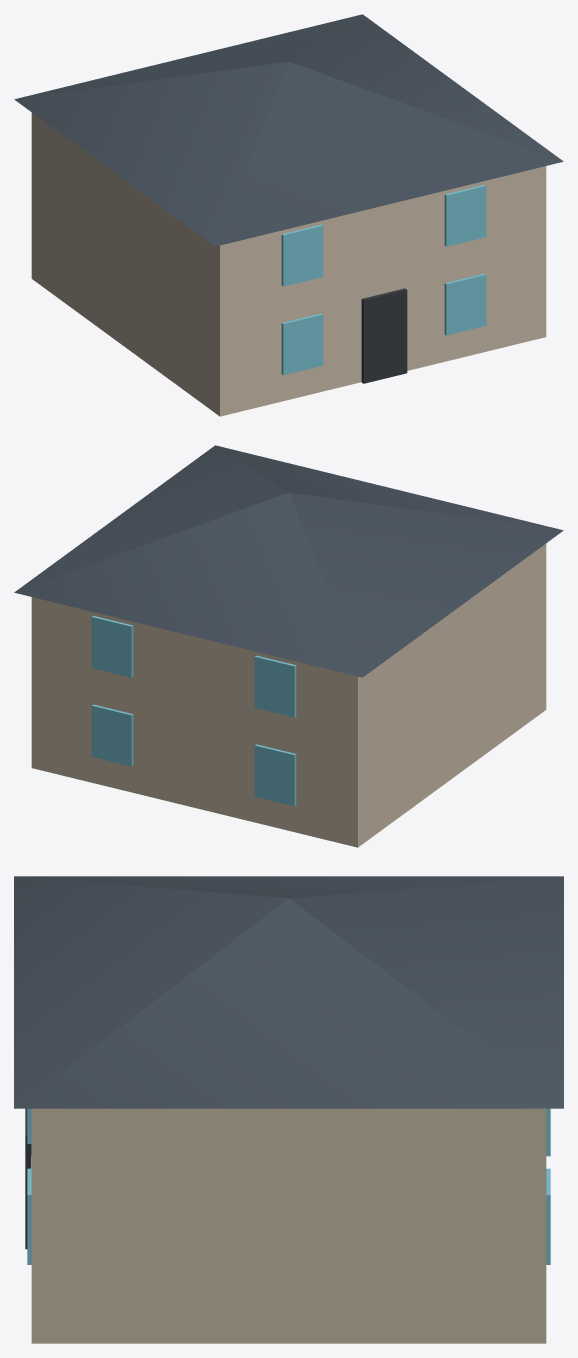
The model's file is house_02.glb.
The picture shows the model from 3 angles, top to bottom: view 1: azimuth 30°, elevation 25°; view 2: azimuth 150°, elevation 25°; view 3: azimuth 270°, elevation 25°; orthographic projection. The views are drawn at different scales.
Parts seen in each view (by area): view 1: body, roof, win (×4), door; view 2: body, roof, win (×4); view 3: roof, body.
Boxes of the visible parts, left/top/right/bottom form: body: left=31, top=112, right=546, bottom=416; roof: left=14, top=14, right=563, bottom=246; win (×4): left=281, top=185, right=486, bottom=375; door: left=361, top=288, right=407, bottom=383; body: left=31, top=543, right=546, bottom=847; roof: left=14, top=445, right=563, bottom=677; win (×4): left=91, top=616, right=296, bottom=806; roof: left=14, top=876, right=563, bottom=1108; body: left=31, top=1108, right=546, bottom=1343.
Bounding box in the file's own units: 9.62 × 6.5 × 9.62.
